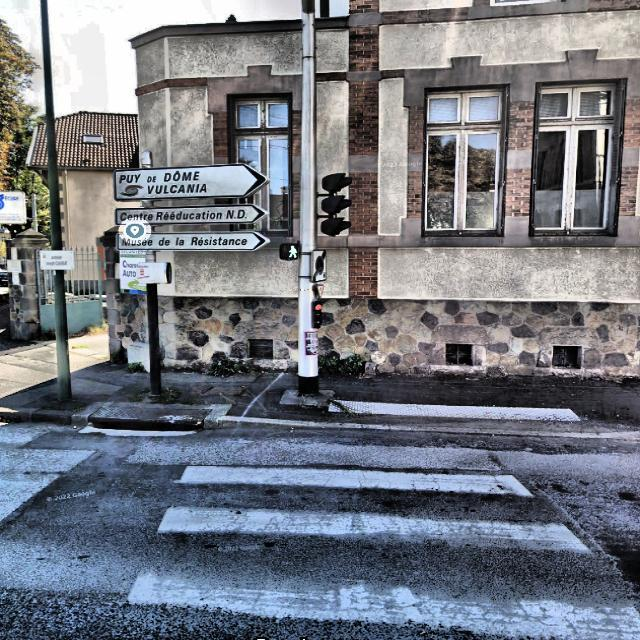green_light: (285, 242, 298, 259)
